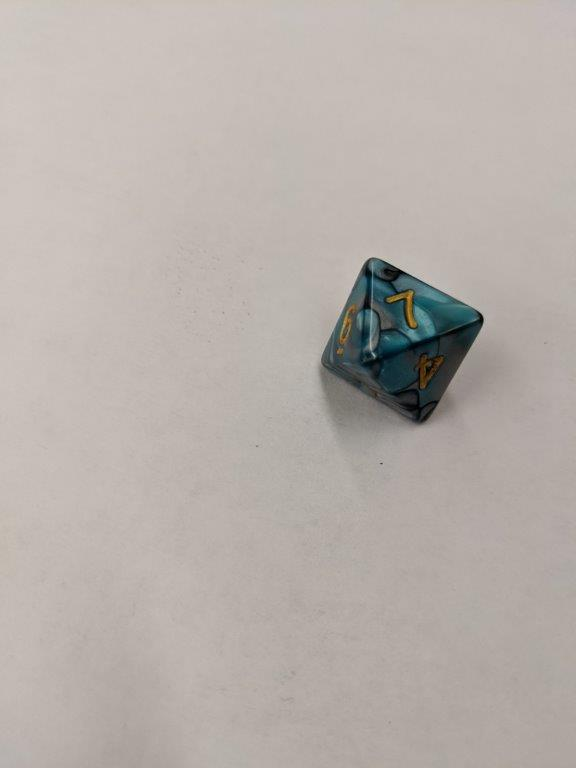d8-7: (314, 253, 484, 427)
